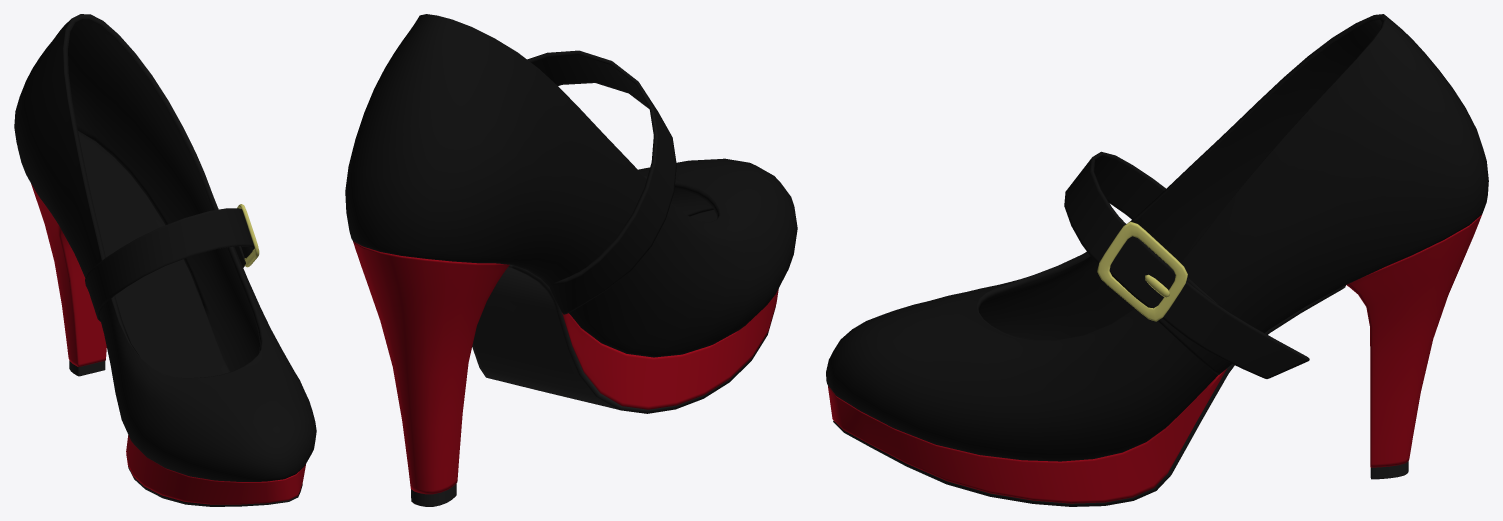
The picture shows the model from 3 angles, left to right: view 1: azimuth 30°, elevation 25°; view 2: azimuth 150°, elevation 25°; view 3: azimuth 270°, elevation 25°; orthographic projection. The views are drawn at different scales.
Visible parts, largest first — view 1: Outer.001; view 2: Outer.001; view 3: Outer.001.
Boxes of the visible parts, x1,y1,x2,y2 form: Outer.001: (14,14,316,506); Outer.001: (345,14,797,506); Outer.001: (826,14,1488,506).
Bounding box in the file's own units: 0.0738 × 0.1485 × 0.198.
